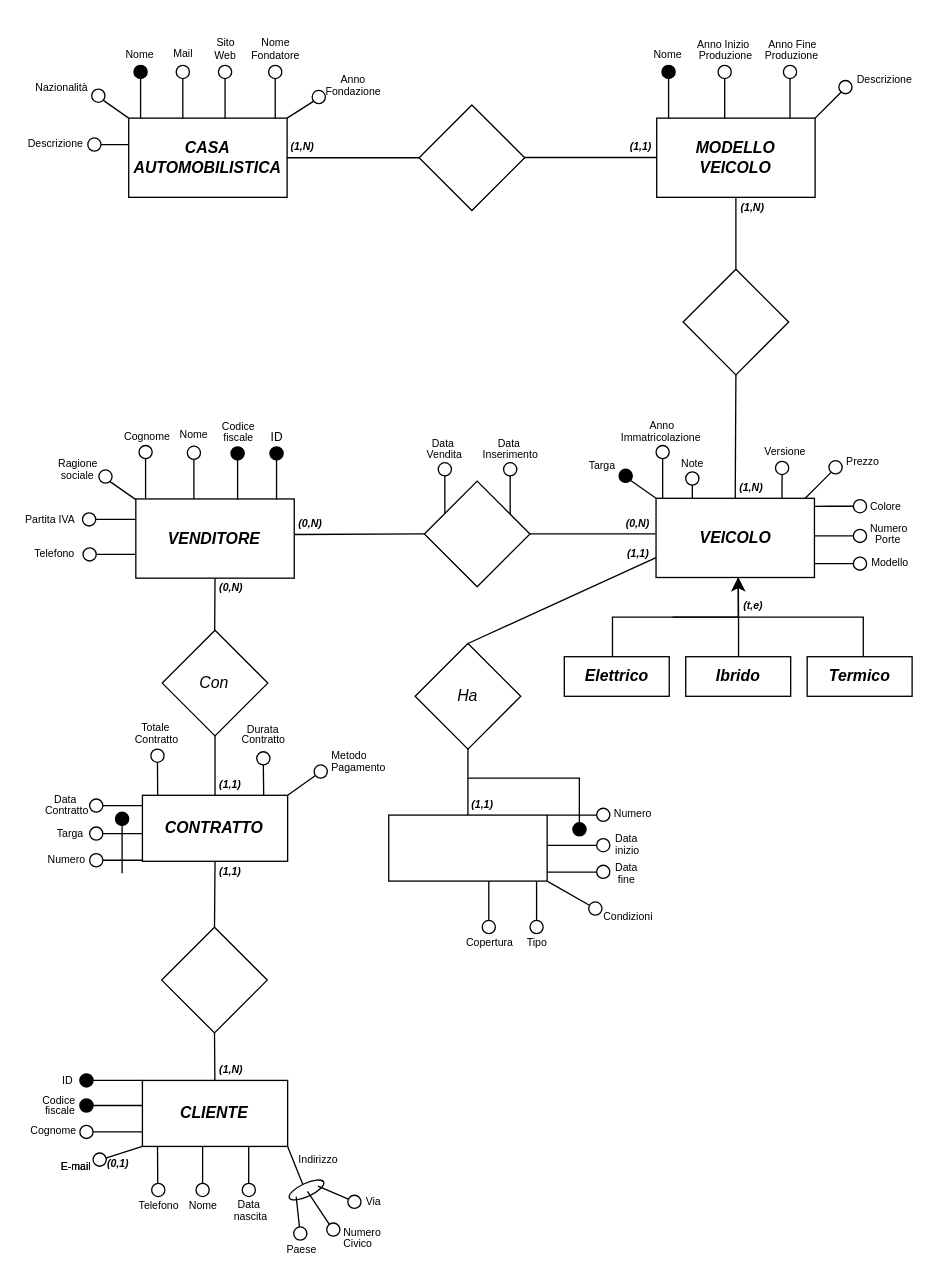
Image size: 940x1279. Some labels were removed from this diagram. Each missing label, with the centre of its shape:
"Appartiene" belongs at point 735,321.
"ASSICURAZIONE" belongs at point 467,847.
"Firma" belongs at point 213,979.
"Produce" belongs at point 471,157.
"Vendere" belongs at point 476,533.
